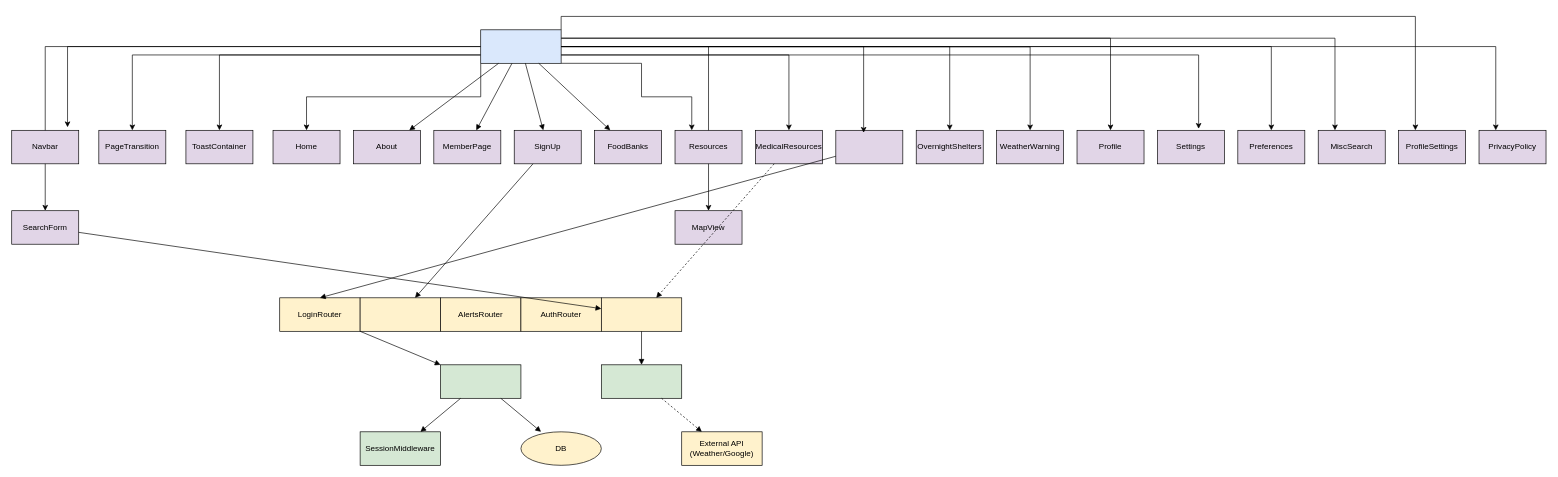
This 1558x477 diagram has some shape labels left out. The centre of each missing label's shape, as x and y in pixels:
AuthService: pixel 480 381
Login: pixel 869 147
RegisterRouter: pixel 400 314
SearchRouter: pixel 641 314
SearchService: pixel 641 381
Website: pixel 520 46
